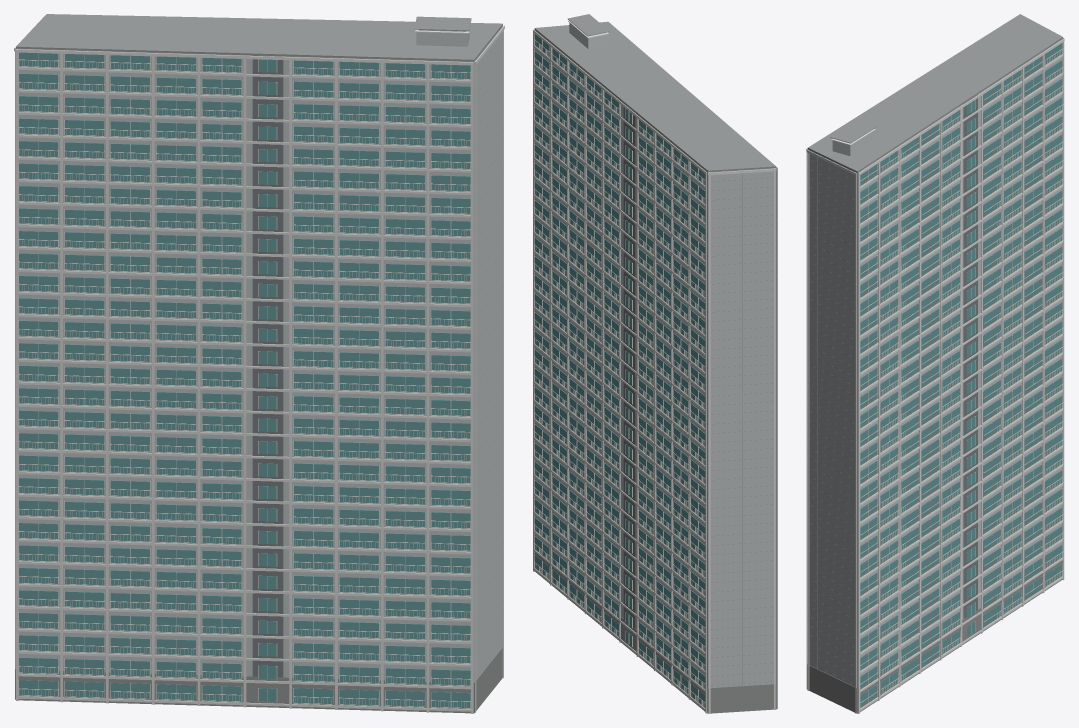
File: bespoke-jamsil-ricenz-242.glb
3 views of the same model, side by side, from view 1: azimuth 30°, elevation 25°; view 2: azimuth 150°, elevation 25°; view 3: azimuth 270°, elevation 25° (orthographic). The views are drawn at different scales.
Visible parts, largest first — view 1: Ricenz242_editable_Ricenz242_turquoise_balcony_glazing, Ricenz242_editable_Ricenz242_light_grey_solid_wall, Ricenz242_white_exact_chunk_3, Ricenz242_white_exact_chunk_2, Ricenz242_white_exact_chunk_1, Ricenz242_white_exact_chunk_0, Ricenz242_editable_Ricenz242_modest_grey_flat_roof_caps, Ricenz242_editable_Ricenz242_narrow_charcoal_service_strips, Ricenz242_editable_Ricenz242_muted_ground_wall; view 2: Ricenz242_editable_Ricenz242_turquoise_balcony_glazing, Ricenz242_editable_Ricenz242_light_grey_solid_wall, Ricenz242_white_exact_chunk_7, Ricenz242_editable_Ricenz242_modest_grey_flat_roof_caps, Ricenz242_white_exact_chunk_6, Ricenz242_white_exact_chunk_5, Ricenz242_white_exact_chunk_4, Ricenz242_editable_Ricenz242_narrow_charcoal_service_strips, Ricenz242_white_exact_chunk_0, Ricenz242_editable_Ricenz242_muted_ground_wall, Ricenz242_white_exact_chunk_3; view 3: Ricenz242_editable_Ricenz242_turquoise_balcony_glazing, Ricenz242_editable_Ricenz242_light_grey_solid_wall, Ricenz242_white_exact_chunk_7, Ricenz242_white_exact_chunk_6, Ricenz242_white_exact_chunk_5, Ricenz242_editable_Ricenz242_modest_grey_flat_roof_caps, Ricenz242_white_exact_chunk_4, Ricenz242_white_exact_chunk_3, Ricenz242_editable_Ricenz242_narrow_charcoal_service_strips, Ricenz242_editable_Ricenz242_muted_ground_wall.
Part boxes in pixels (<box>): Ricenz242_editable_Ricenz242_turquoise_balcony_glazing: <box>19,52,470,707</box>; Ricenz242_editable_Ricenz242_light_grey_solid_wall: <box>16,26,502,682</box>; Ricenz242_white_exact_chunk_3: <box>15,25,504,713</box>; Ricenz242_white_exact_chunk_2: <box>200,58,380,709</box>; Ricenz242_white_exact_chunk_1: <box>108,55,243,705</box>; Ricenz242_white_exact_chunk_0: <box>14,16,151,702</box>; Ricenz242_editable_Ricenz242_modest_grey_flat_roof_caps: <box>16,14,502,675</box>; Ricenz242_editable_Ricenz242_narrow_charcoal_service_strips: <box>252,55,283,677</box>; Ricenz242_editable_Ricenz242_muted_ground_wall: <box>15,647,502,713</box>; Ricenz242_editable_Ricenz242_turquoise_balcony_glazing: <box>535,34,705,707</box>; Ricenz242_editable_Ricenz242_light_grey_solid_wall: <box>534,23,776,687</box>; Ricenz242_white_exact_chunk_7: <box>533,20,706,713</box>; Ricenz242_editable_Ricenz242_modest_grey_flat_roof_caps: <box>534,14,776,685</box>; Ricenz242_white_exact_chunk_6: <box>603,91,688,696</box>; Ricenz242_white_exact_chunk_5: <box>568,62,619,639</box>; Ricenz242_white_exact_chunk_4: <box>534,33,584,611</box>; Ricenz242_editable_Ricenz242_narrow_charcoal_service_strips: <box>623,103,635,628</box>; Ricenz242_white_exact_chunk_0: <box>708,168,776,713</box>; Ricenz242_editable_Ricenz242_muted_ground_wall: <box>534,549,776,713</box>; Ricenz242_white_exact_chunk_3: <box>534,29,777,708</box>; Ricenz242_editable_Ricenz242_turquoise_balcony_glazing: <box>860,43,1062,707</box>; Ricenz242_editable_Ricenz242_light_grey_solid_wall: <box>808,39,1062,687</box>; Ricenz242_white_exact_chunk_7: <box>831,39,1064,713</box>; Ricenz242_white_exact_chunk_6: <box>941,69,1043,644</box>; Ricenz242_white_exact_chunk_5: <box>900,123,960,670</box>; Ricenz242_editable_Ricenz242_modest_grey_flat_roof_caps: <box>807,14,1062,682</box>; Ricenz242_white_exact_chunk_4: <box>860,150,919,697</box>; Ricenz242_white_exact_chunk_3: <box>806,148,878,713</box>; Ricenz242_editable_Ricenz242_narrow_charcoal_service_strips: <box>963,94,977,618</box>; Ricenz242_editable_Ricenz242_muted_ground_wall: <box>807,558,1062,713</box>.
Bounding box in the file's own units: 53.96 × 88.36 × 37.14.
